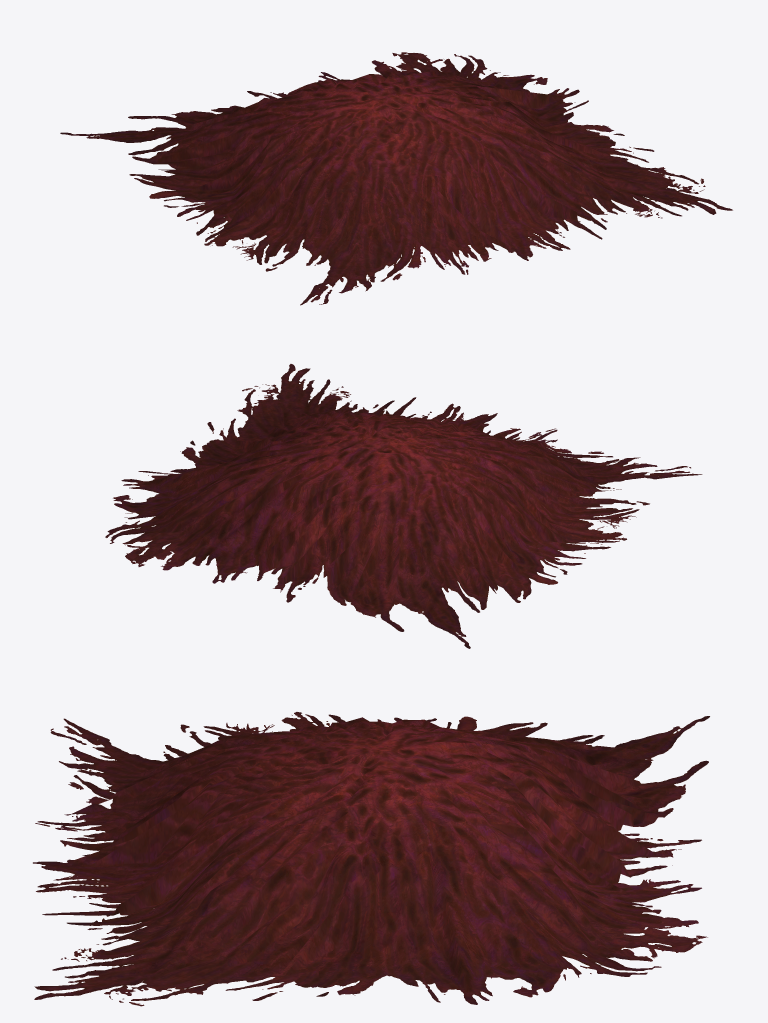
The model's file is shadowflesh_pile.dae.
The picture shows the model from 3 angles, top to bottom: view 1: azimuth 30°, elevation 25°; view 2: azimuth 150°, elevation 25°; view 3: azimuth 270°, elevation 25°; orthographic projection. The views are drawn at different scales.
Visible parts, largest first — view 1: Mesh; view 2: Mesh; view 3: Mesh.
Part boxes in pixels (x1,y1,x2,y2): Mesh: [60, 52, 732, 305]; Mesh: [105, 364, 702, 648]; Mesh: [33, 712, 709, 1006].
Size of the model in its own units: 2.03 by 0.3034 by 2.03.
